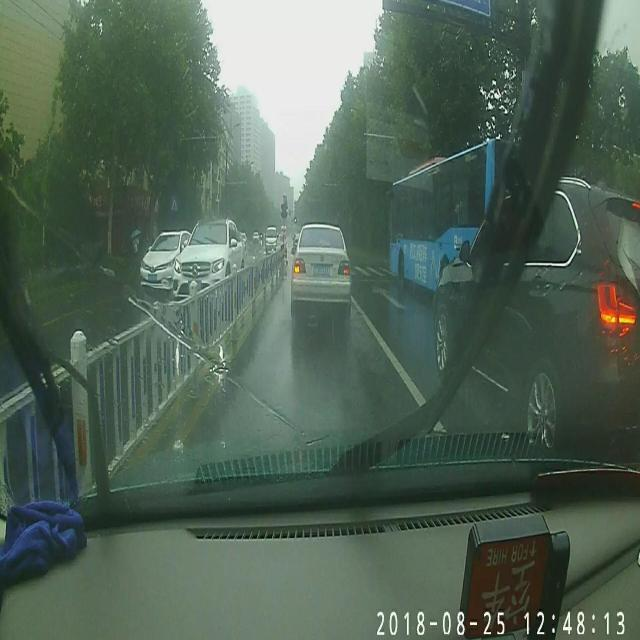car: (433, 172, 640, 462), (170, 216, 243, 294), (288, 223, 351, 306), (138, 230, 198, 290), (264, 226, 276, 252)
